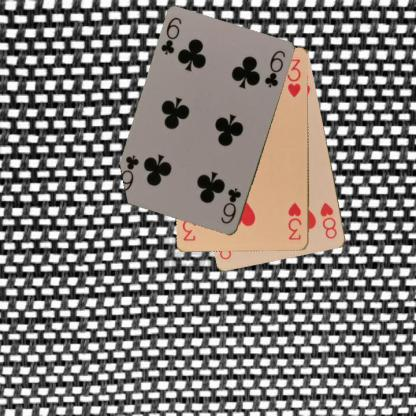3h: (285, 200, 303, 241)
6c: (158, 15, 183, 57), (218, 185, 243, 226)
8h: (318, 200, 338, 240)
